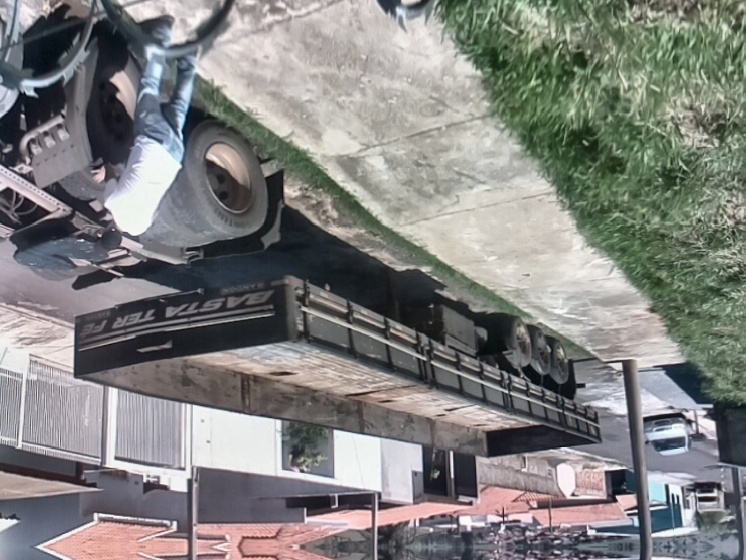person: (86, 13, 211, 249)
